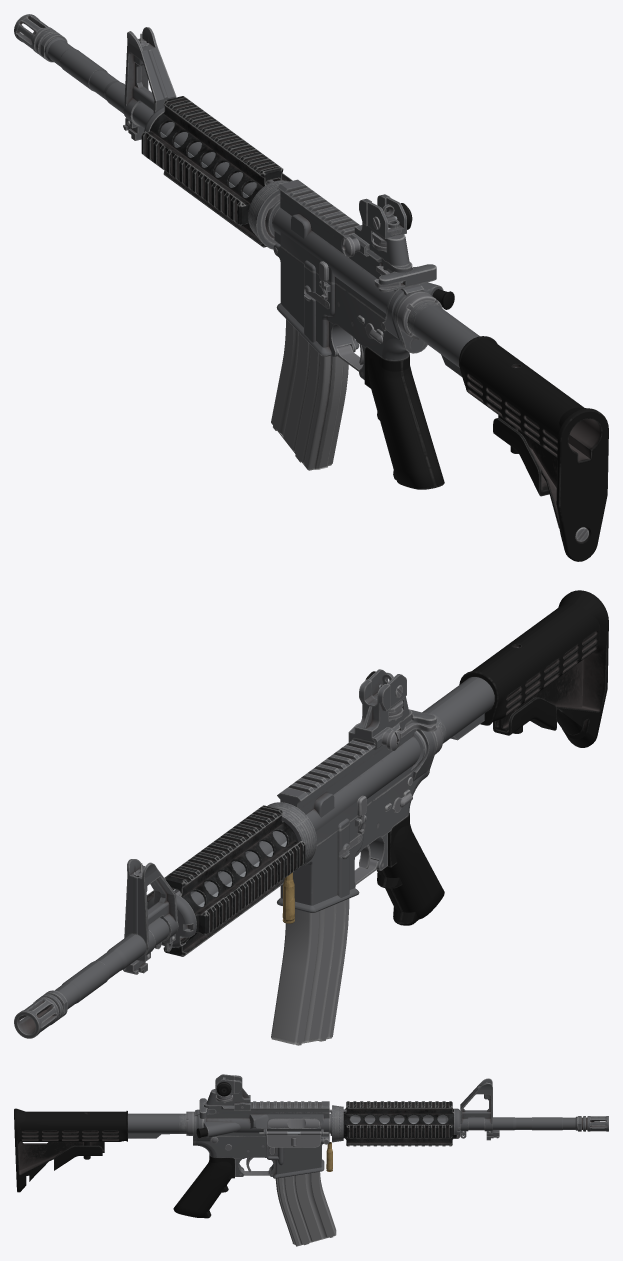
The model's file is m4a1-training.glb.
3 renders of one model, top to bottom at view 1: azimuth 30°, elevation 25°; view 2: azimuth 150°, elevation 25°; view 3: azimuth 270°, elevation 25°, orthographic. The views are drawn at different scales.
Parts seen in each view (by area): view 1: base_M_M4A1_0, part_low, magazine, rear sight.001, charging handle; view 2: base_M_M4A1_0, part_low, magazine, rear sight.001; view 3: base_M_M4A1_0, part_low, magazine, rear sight.001, part.043_low, bolt.
Part boxes in pixels (left/top/right/bottom): base_M_M4A1_0: left=14, top=14, right=516, bottom=489; part_low: left=459, top=336, right=608, bottom=561; magazine: left=271, top=319, right=348, bottom=470; rear sight.001: left=341, top=194, right=412, bottom=266; charging handle: left=378, top=264, right=436, bottom=292; base_M_M4A1_0: left=14, top=647, right=518, bottom=1038; part_low: left=459, top=590, right=608, bottom=747; magazine: left=271, top=899, right=349, bottom=1045; rear sight.001: left=348, top=669, right=409, bottom=750; base_M_M4A1_0: left=128, top=1078, right=608, bottom=1218; part_low: left=14, top=1108, right=127, bottom=1192; magazine: left=275, top=1172, right=336, bottom=1246; rear sight.001: left=206, top=1074, right=250, bottom=1110; part.043_low: left=267, top=1131, right=320, bottom=1147; bolt: left=268, top=1119, right=319, bottom=1127.
Bounding box in the file's own units: 0.0693 × 0.2672 × 0.8654.
2 materials, 2 textured.
